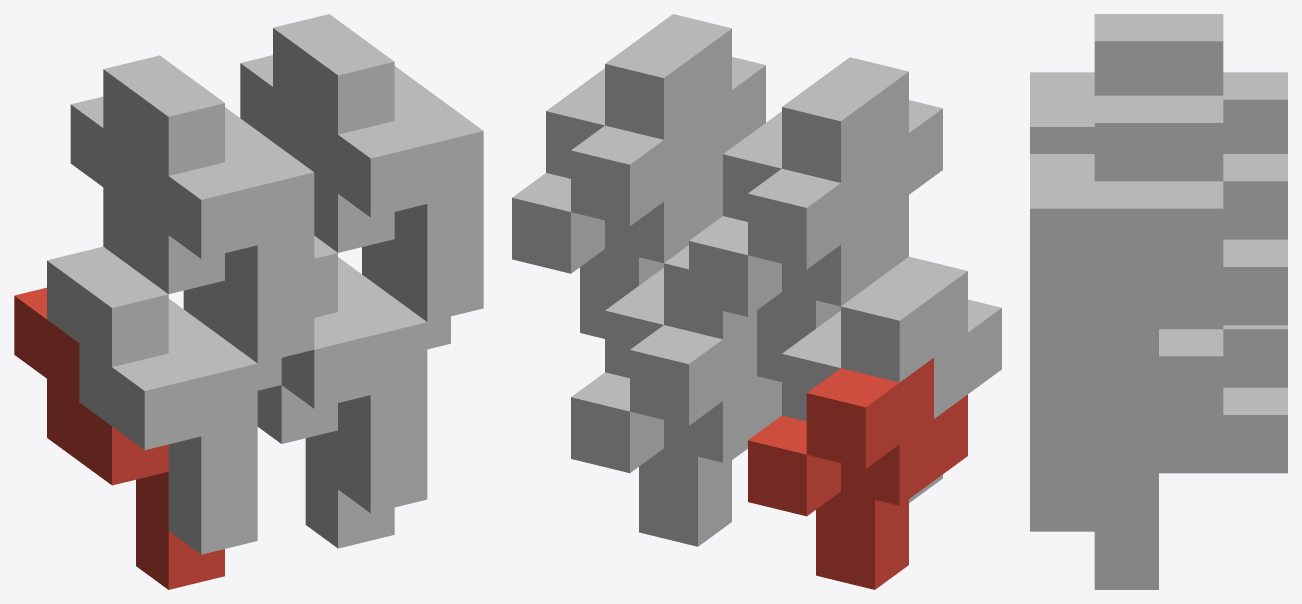
File: tiling.obj
3 renders of one model, left to right at view 1: azimuth 30°, elevation 25°; view 2: azimuth 150°, elevation 25°; view 3: azimuth 270°, elevation 25°, orthographic. The views are drawn at different scales.
Parts seen in each view (by area): view 1: copy_1_domain_4, copy_1_domain_2, copy_1_domain_8, copy_1_domain_6, copy_1_domain_1, copy_1_domain_3, copy_1_domain_7, copy_1_domain_5; view 2: copy_1_domain_1, copy_1_domain_5, copy_1_domain_3, copy_1_domain_7, copy_1_domain_2, copy_1_domain_4, copy_1_domain_8, copy_1_domain_6; view 3: copy_1_domain_8, copy_1_domain_7, copy_1_domain_5, copy_1_domain_4, copy_1_domain_6, copy_1_domain_3.
Boxes of the visible parts, bbox=[...] form: copy_1_domain_4: bbox=[103, 55, 314, 363]; copy_1_domain_2: bbox=[47, 246, 257, 554]; copy_1_domain_8: bbox=[273, 14, 483, 321]; copy_1_domain_6: bbox=[281, 236, 427, 513]; copy_1_domain_1: bbox=[14, 287, 224, 589]; copy_1_domain_3: bbox=[70, 96, 281, 390]; copy_1_domain_7: bbox=[240, 55, 450, 349]; copy_1_domain_5: bbox=[183, 288, 394, 548]; copy_1_domain_1: bbox=[748, 358, 967, 589]; copy_1_domain_5: bbox=[571, 314, 781, 546]; copy_1_domain_3: bbox=[689, 158, 908, 381]; copy_1_domain_7: bbox=[512, 115, 722, 338]; copy_1_domain_2: bbox=[782, 256, 1001, 502]; copy_1_domain_4: bbox=[723, 57, 942, 221]; copy_1_domain_8: bbox=[546, 14, 765, 178]; copy_1_domain_6: bbox=[605, 245, 756, 459]; copy_1_domain_8: bbox=[1030, 95, 1223, 383]; copy_1_domain_7: bbox=[1094, 154, 1287, 441]; copy_1_domain_5: bbox=[1094, 325, 1287, 589]; copy_1_domain_4: bbox=[1030, 14, 1223, 153]; copy_1_domain_6: bbox=[1030, 325, 1223, 531]; copy_1_domain_3: bbox=[1223, 72, 1287, 153].
Size of the model in its own units: 6 by 8 by 4.
